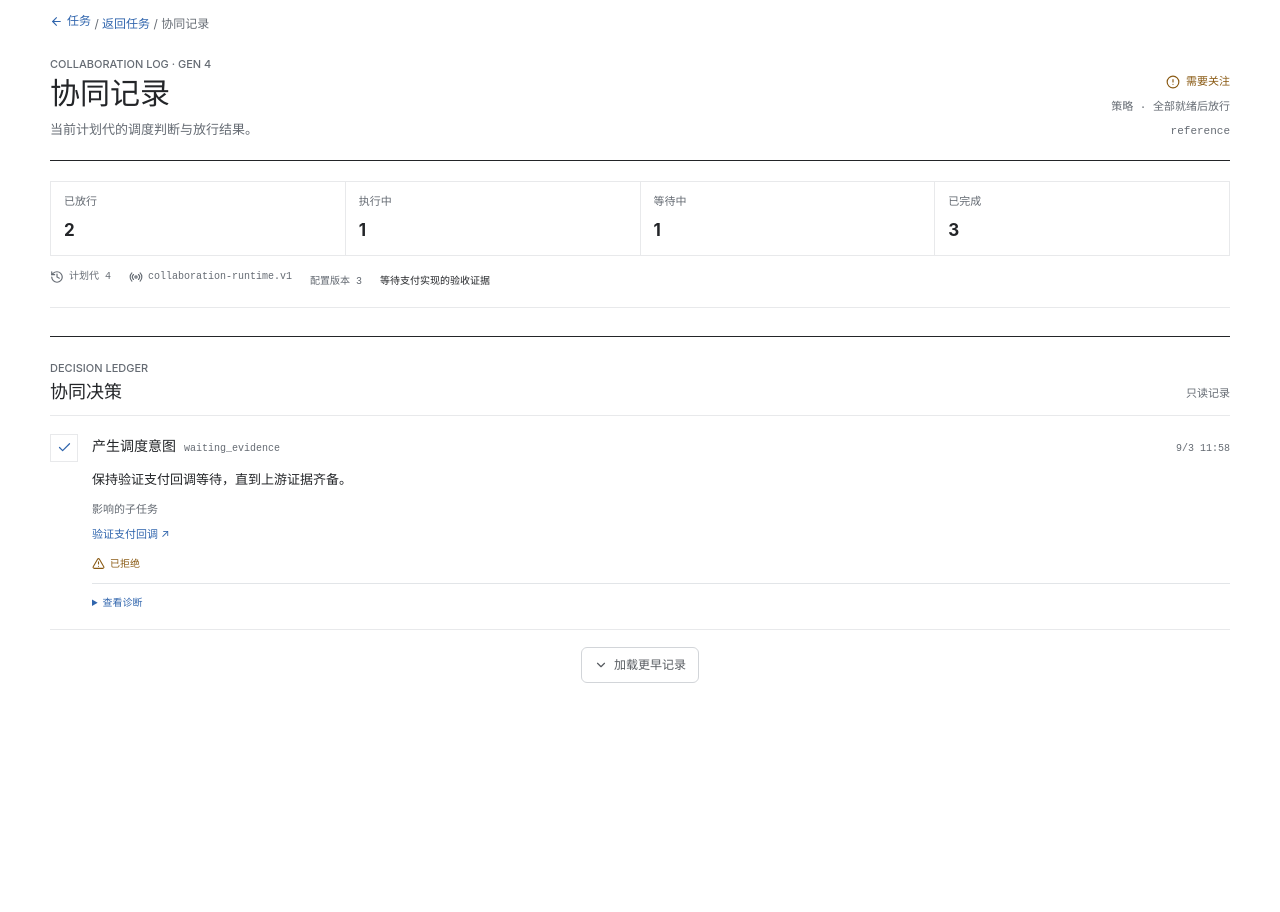
CollaborationDetailPage › shows current generation and redacted decision history with a bounded next page
The width and height of the screenshot is (1280, 912).
expect the heading "协同记录" is shown: met, box [50, 75, 170, 111]
expect the text "COLLABORATION LOG · GEN 4" is shown: met, box [50, 56, 211, 70]
Click the heading "查看诊断": (123, 602) [103, 596, 143, 608]
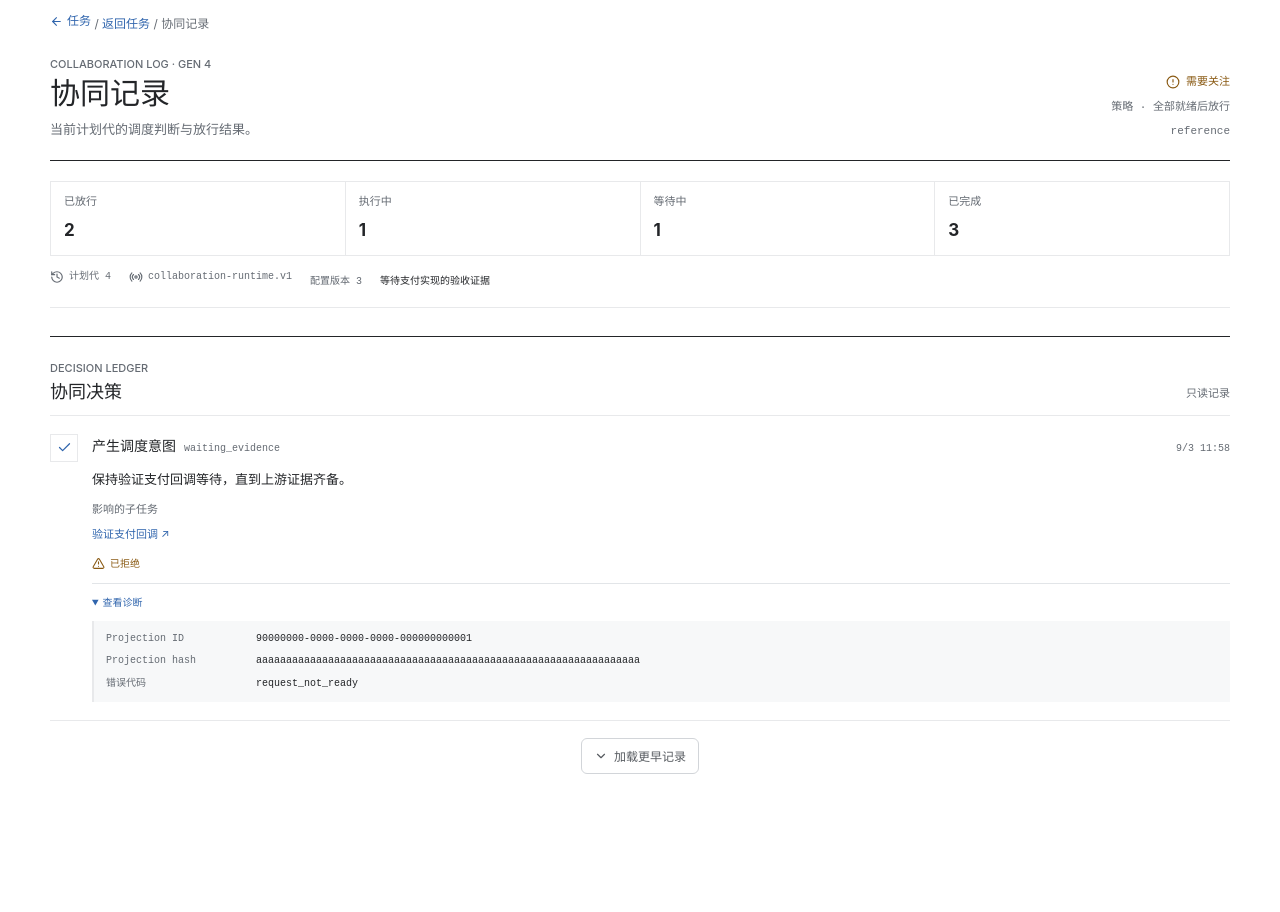
expect the text "request_not_ready" is shown: met, box [256, 678, 358, 689]
Click the button "加载更早记录": (640, 756) [581, 738, 699, 774]
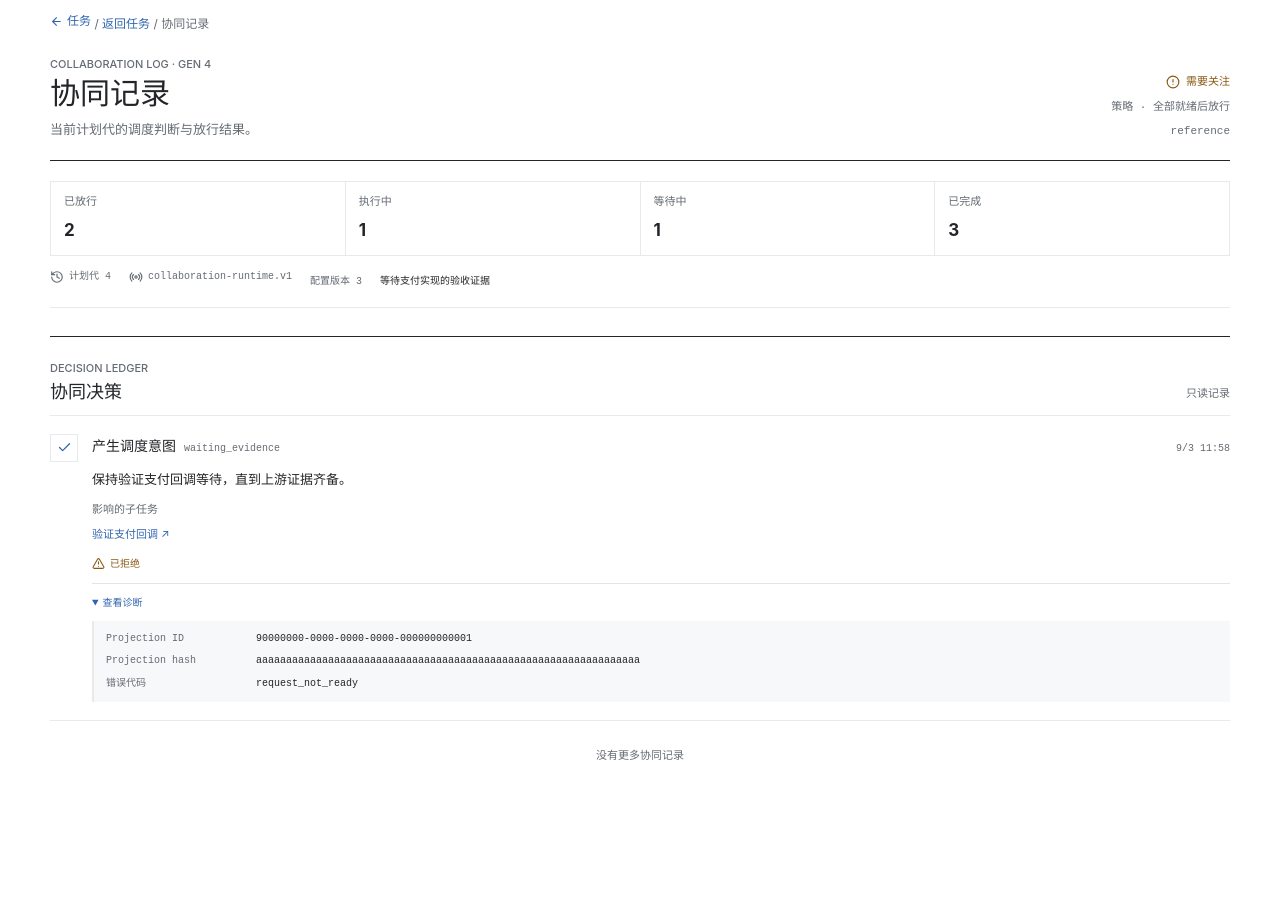
expect the text "没有更多协同记录" is shown: met, box [596, 748, 684, 765]
